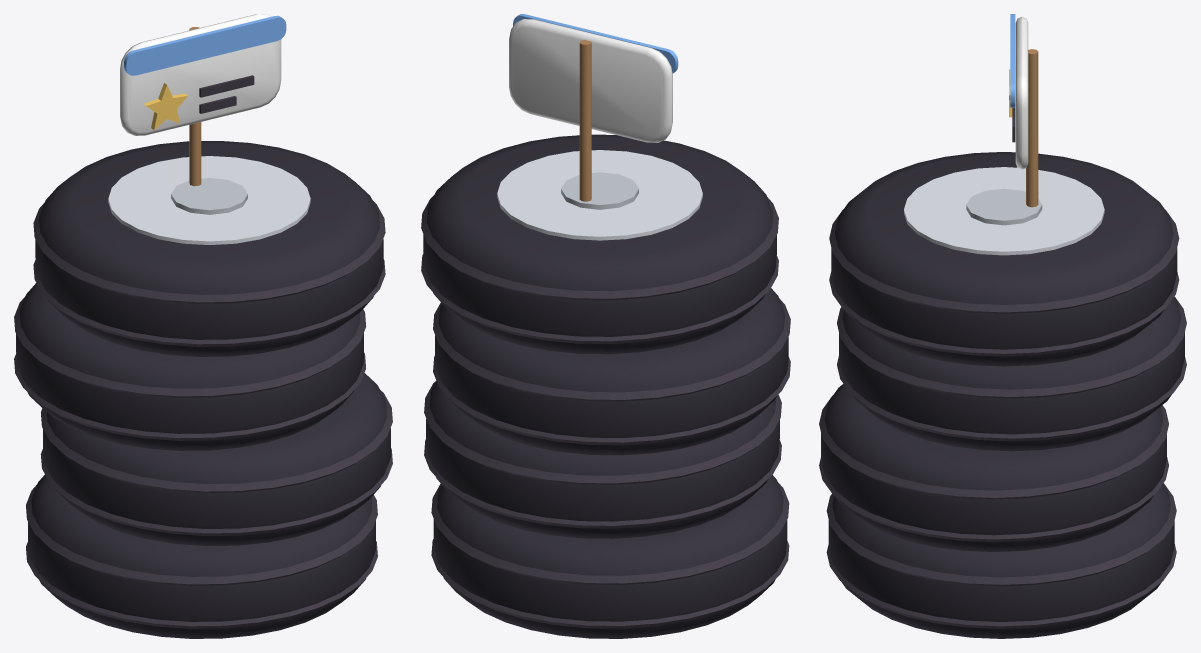
File: tyre_stack.glb
3 views of the same model, side by side, from view 1: azimuth 30°, elevation 25°; view 2: azimuth 150°, elevation 25°; view 3: azimuth 270°, elevation 25° (orthographic). The views are drawn at different scales.
Visible parts, largest first — view 1: tyre_stack; view 2: tyre_stack; view 3: tyre_stack.
Part boxes in pixels (left/top/right/bottom): tyre_stack: left=14, top=14, right=392, bottom=638; tyre_stack: left=421, top=14, right=790, bottom=638; tyre_stack: left=819, top=14, right=1186, bottom=638.
Bounding box in the file's own units: 0.728 × 1.16 × 0.723.
